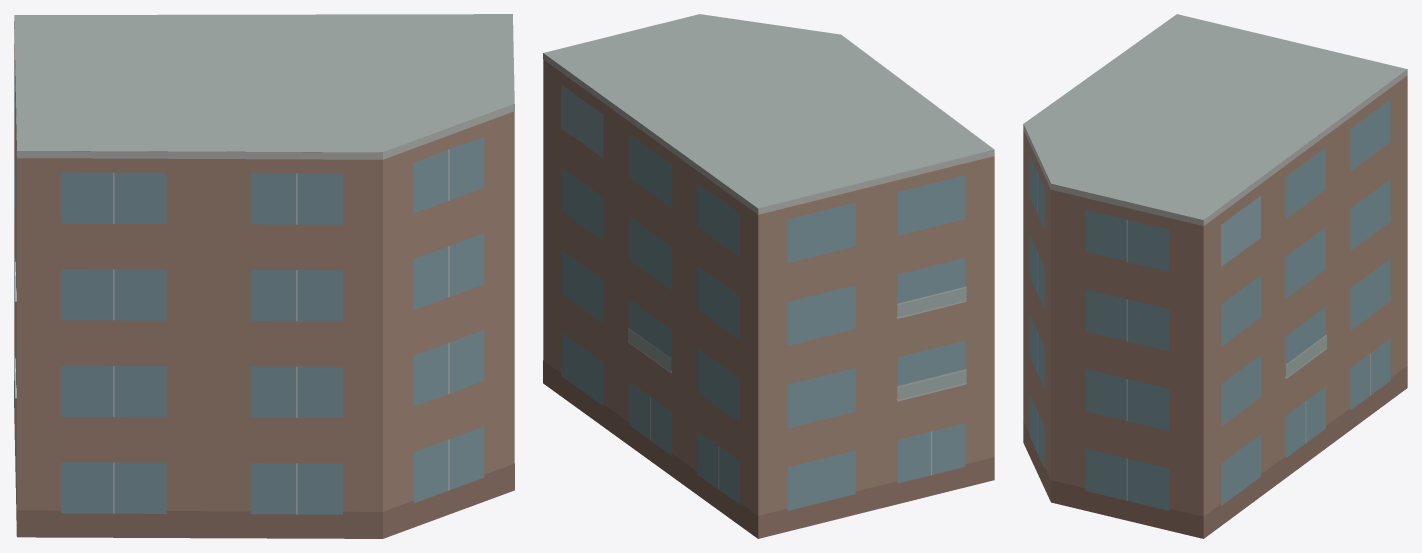
Rendered from survey-upis-32680395.glb.
3 renders of one model, left to right at view 1: azimuth 30°, elevation 25°; view 2: azimuth 150°, elevation 25°; view 3: azimuth 270°, elevation 25°, orthographic. The views are drawn at different scales.
Parts seen in each view (by area): view 1: survey-upis-32680395.tmp; view 2: survey-upis-32680395.tmp; view 3: survey-upis-32680395.tmp.
Boxes of the visible parts, x1,y1,x2,y2 form: survey-upis-32680395.tmp: (14,14,514,538); survey-upis-32680395.tmp: (543,14,994,538); survey-upis-32680395.tmp: (1023,14,1407,538).
Size of the model in its own units: 17.76 by 12.8 by 13.99.
